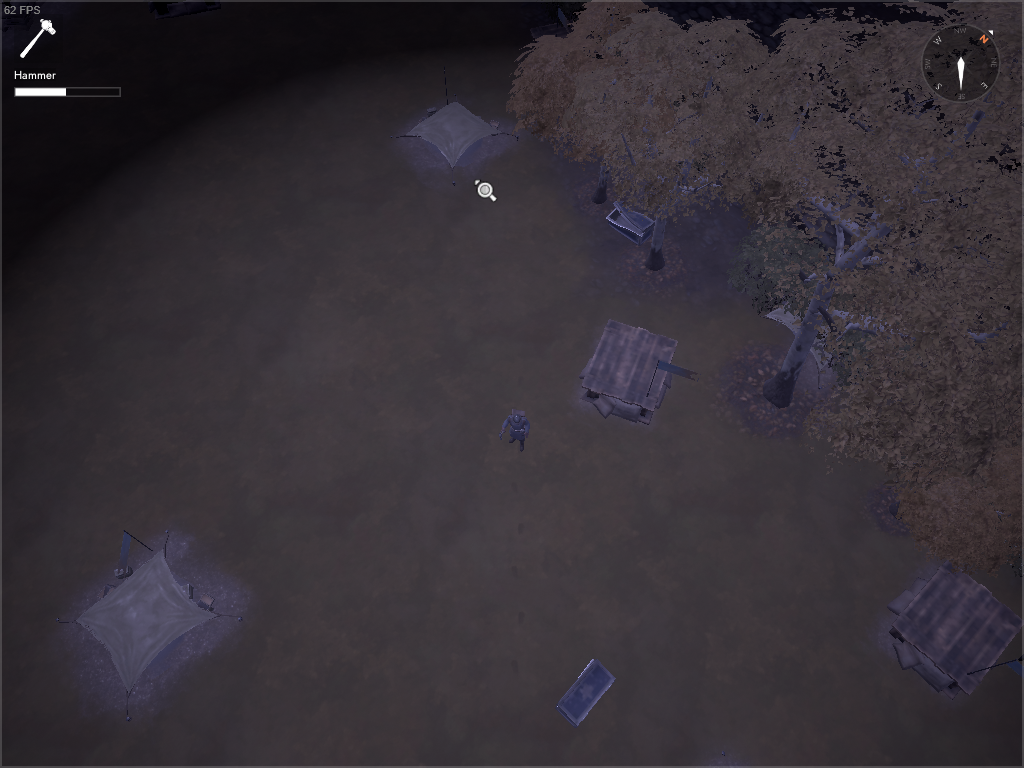foxhole: (50, 525, 249, 728), (383, 59, 525, 192), (751, 272, 892, 393)
pillbox: (876, 544, 1024, 707), (572, 311, 700, 431)
player: (492, 406, 532, 454)
storage_box: (551, 654, 623, 730), (601, 193, 662, 251)
